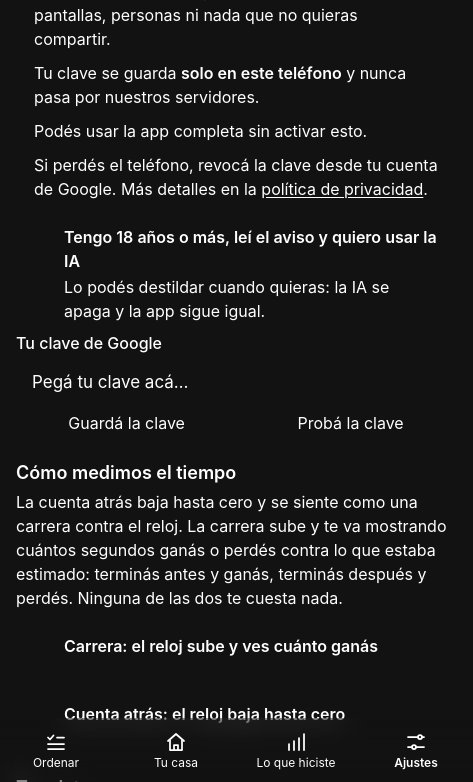
Test: «Probá la clave» conserva su nombre mientras prueba
(page scrolled)
Type "clave-de-prueba" into the password field labelled "Tu clave de Google". click: coordinates (236, 382)
box: [16, 354, 456, 410]
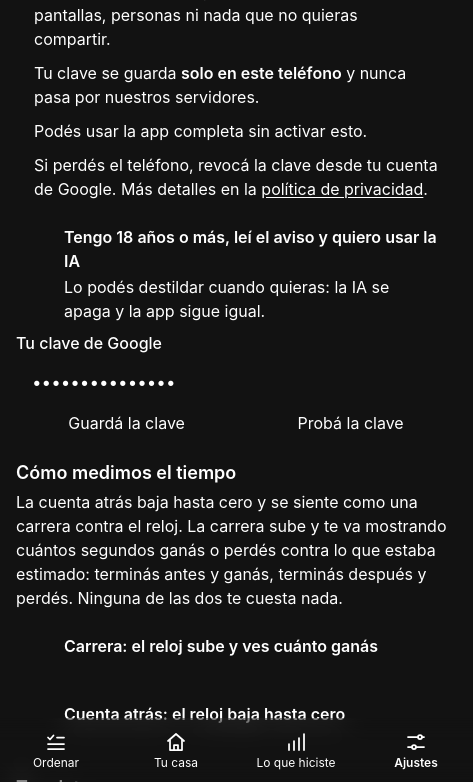
Click the button "Probá la clave". click: coordinates (351, 422)
box: [245, 410, 456, 434]
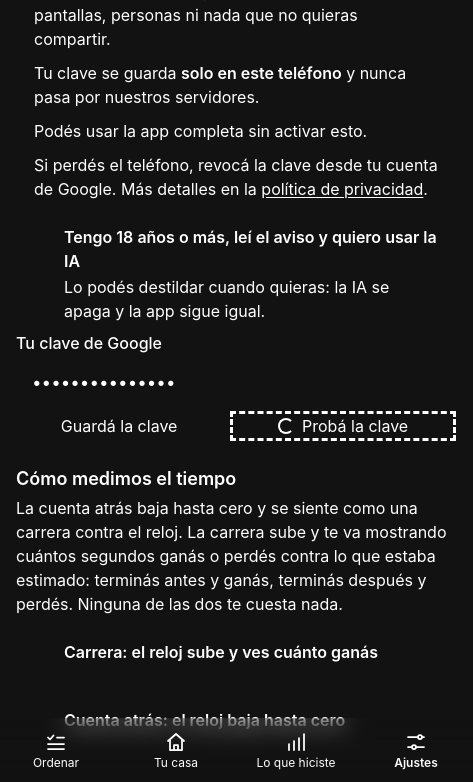
Result: the button "Probá la clave" is disabled at [230, 410, 456, 440]
